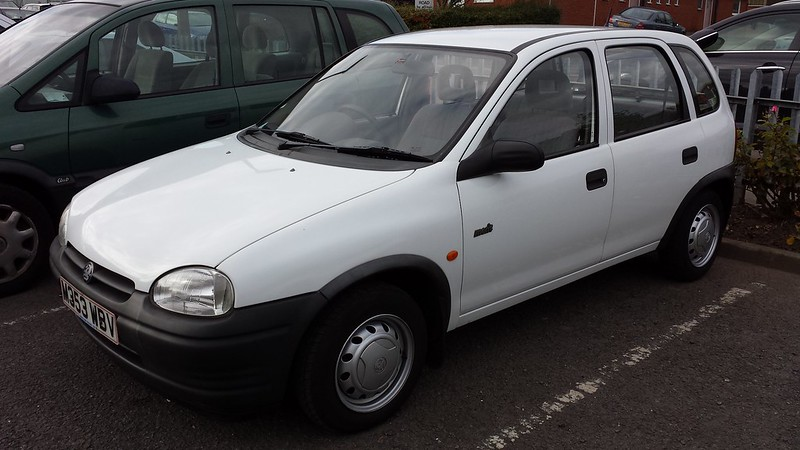number_plate: (47, 275, 135, 349)
